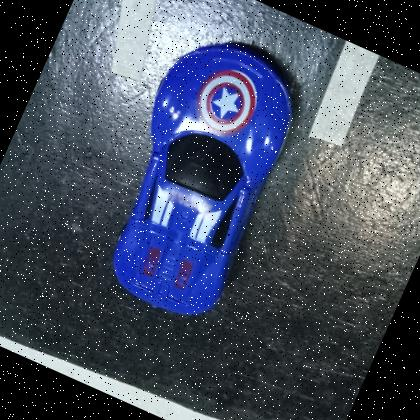Car: (72, 20, 321, 334)
